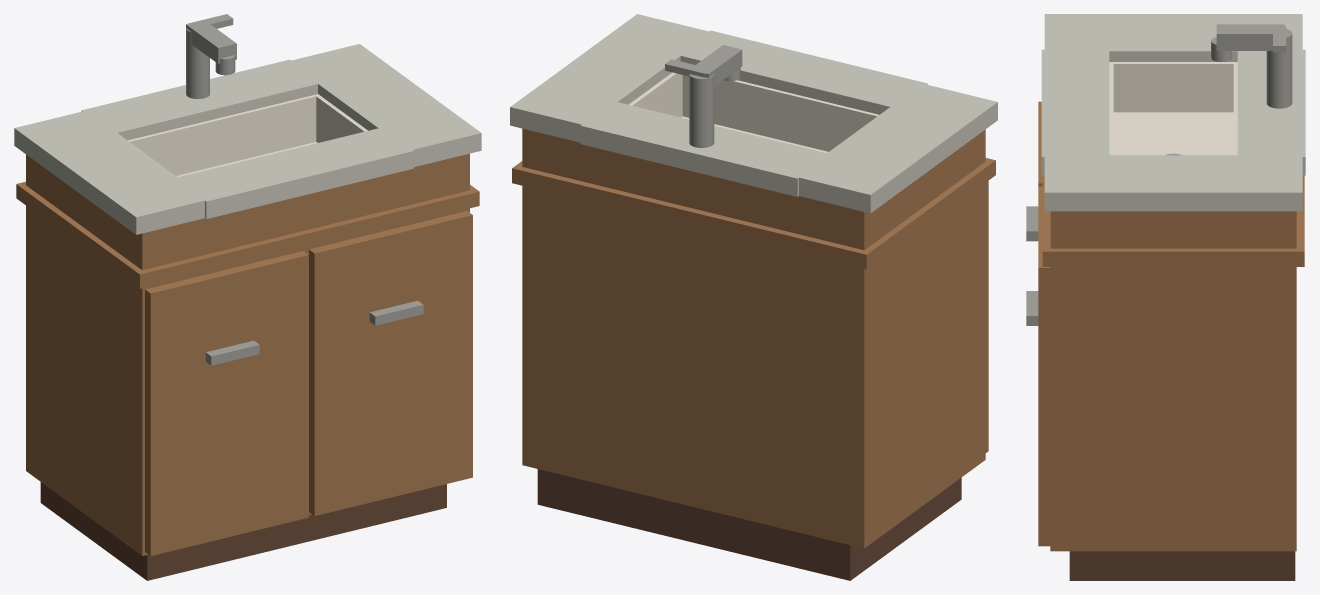
The model's file is bathroom_vanity.glb.
3 renders of one model, left to right at view 1: azimuth 30°, elevation 25°; view 2: azimuth 150°, elevation 25°; view 3: azimuth 270°, elevation 25°, orthographic. The views are drawn at different scales.
Visible parts, largest first — view 1: Door.001, Door, Case, Under-counter rail, Counter wing, Counter wing.001, Counter rail, Plinth, Top, Counter rail.001, Basin end.001, Under-counter side (+5 smaller); view 2: Case, Plinth, Under-counter rail.001, Counter wing, Counter wing.001, Counter rail.001, Top, Counter rail, Basin end, Under-counter side, Faucet stem, Basin side.001 (+2 smaller); view 3: Case, Counter wing.001, Counter wing, Under-counter side.001, Counter rail, Plinth, Basin side, Counter rail.001, Top, Basin bottom, Door.001, Faucet stem (+7 smaller).
Boxes of the visible parts, x1=… form: Door.001: x1=309, y1=211, x2=472, y2=515; Door: x1=145, y1=251, x2=308, y2=555; Case: x1=26, y1=205, x2=469, y2=555; Under-counter rail: x1=134, y1=153, x2=469, y2=270; Counter wing: x1=14, y1=110, x2=207, y2=234; Counter wing.001: x1=288, y1=44, x2=481, y2=166; Counter rail: x1=175, y1=128, x2=414, y2=219; Plinth: x1=40, y1=482, x2=446, y2=580; Top: x1=16, y1=181, x2=479, y2=288; Counter rail.001: x1=81, y1=59, x2=320, y2=140; Basin end.001: x1=128, y1=94, x2=319, y2=175; Under-counter side: x1=34, y1=160, x2=134, y2=263; Case: x1=522, y1=183, x2=985, y2=548; Plinth: x1=537, y1=469, x2=961, y2=580; Under-counter rail.001: x1=522, y1=128, x2=872, y2=250; Counter wing: x1=798, y1=84, x2=997, y2=213; Counter wing.001: x1=510, y1=14, x2=712, y2=142; Counter rail.001: x1=580, y1=101, x2=830, y2=196; Top: x1=512, y1=158, x2=995, y2=269; Counter rail: x1=679, y1=30, x2=927, y2=114; Basin end: x1=682, y1=75, x2=878, y2=151; Under-counter side: x1=872, y1=136, x2=977, y2=243; Faucet stem: x1=689, y1=74, x2=714, y2=147; Basin side.001: x1=628, y1=72, x2=682, y2=117; Case: x1=1050, y1=267, x2=1296, y2=551; Counter wing.001: x1=1044, y1=155, x2=1302, y2=211; Counter wing: x1=1044, y1=14, x2=1302, y2=61; Under-counter side.001: x1=1067, y1=211, x2=1279, y2=248; Counter rail: x1=1041, y1=49, x2=1109, y2=175; Plinth: x1=1069, y1=551, x2=1295, y2=580; Basin side: x1=1110, y1=62, x2=1233, y2=112; Counter rail.001: x1=1237, y1=49, x2=1305, y2=175; Top: x1=1042, y1=175, x2=1304, y2=266; Basin bottom: x1=1113, y1=112, x2=1233, y2=155; Door.001: x1=1038, y1=186, x2=1050, y2=546; Faucet stem: x1=1266, y1=28, x2=1292, y2=108.
Bounding box in the file's own units: 0.859 × 1.06 × 0.568.
